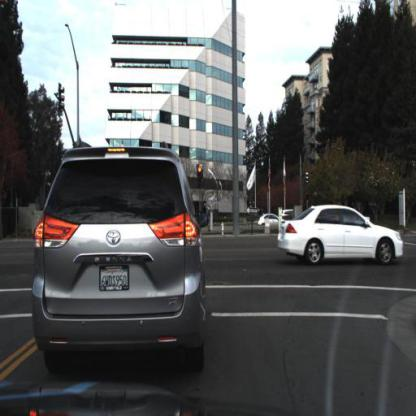car: (33, 141, 206, 376), (278, 205, 406, 264), (259, 213, 288, 229)
trafficLight-Red: (196, 163, 204, 189)
